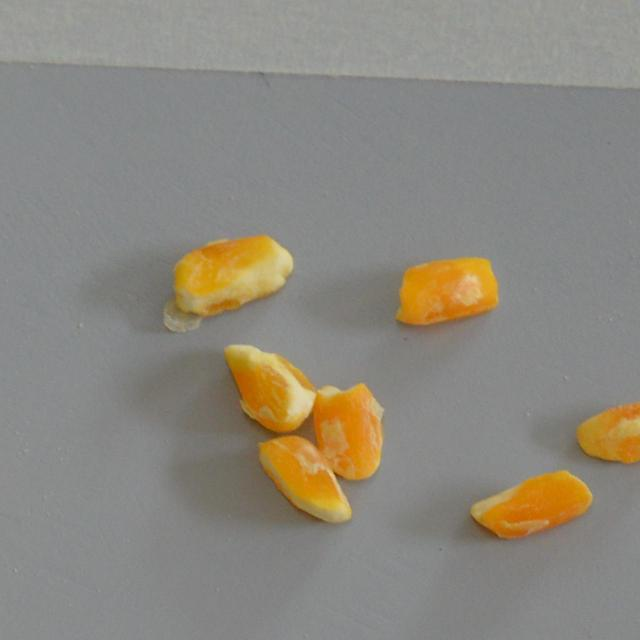dañado: (574, 395, 640, 466)
pelicula: (162, 226, 295, 339), (389, 231, 516, 344), (468, 464, 594, 544), (257, 432, 352, 524), (223, 342, 318, 432), (312, 378, 383, 491)
